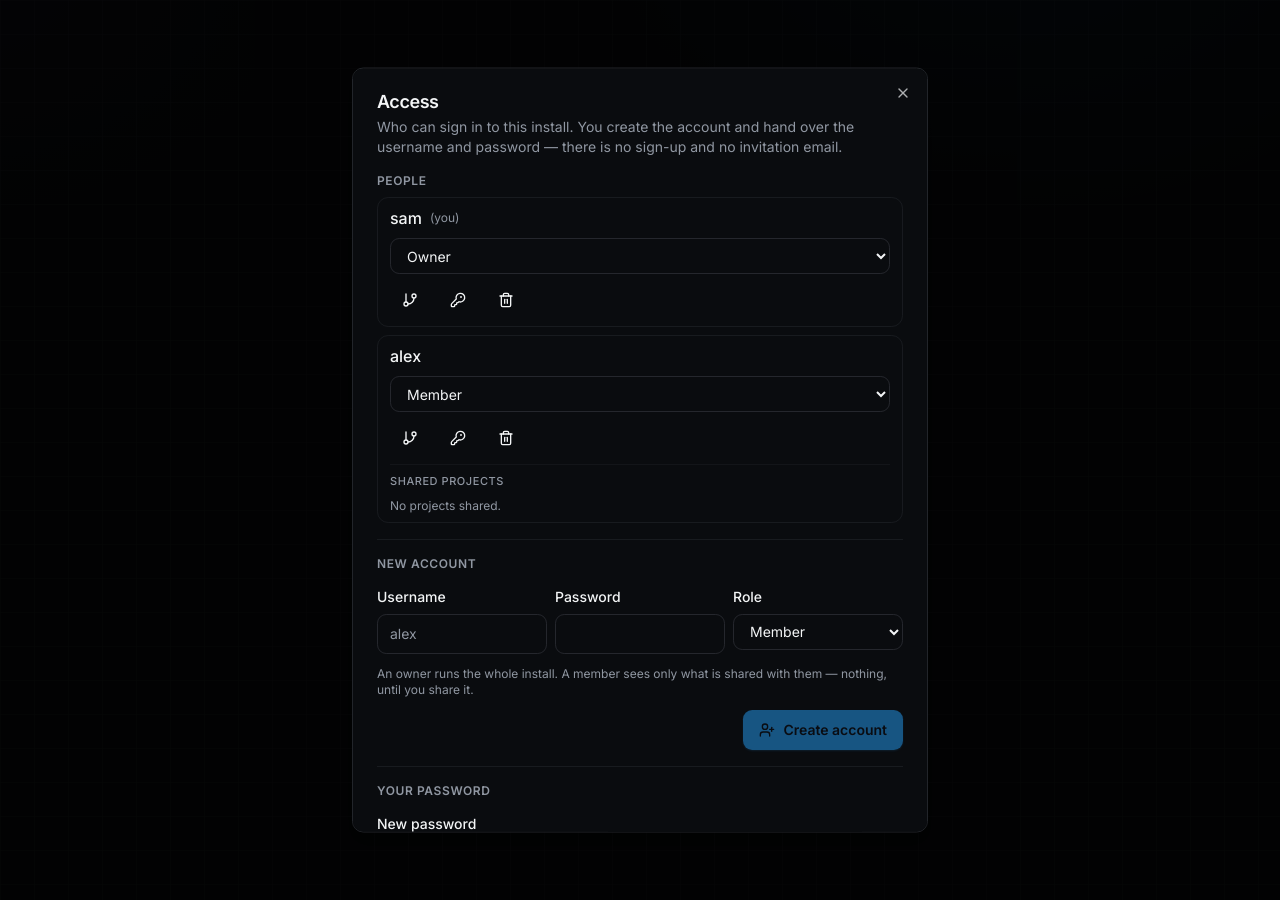
AccessDialog — a identidade no GitHub de uma pessoa › o bloco abre com a conta Claude que a pessoa já tem
Click the button with test id "user-git-open-u2" at (410, 438), box [390,420,430,456]
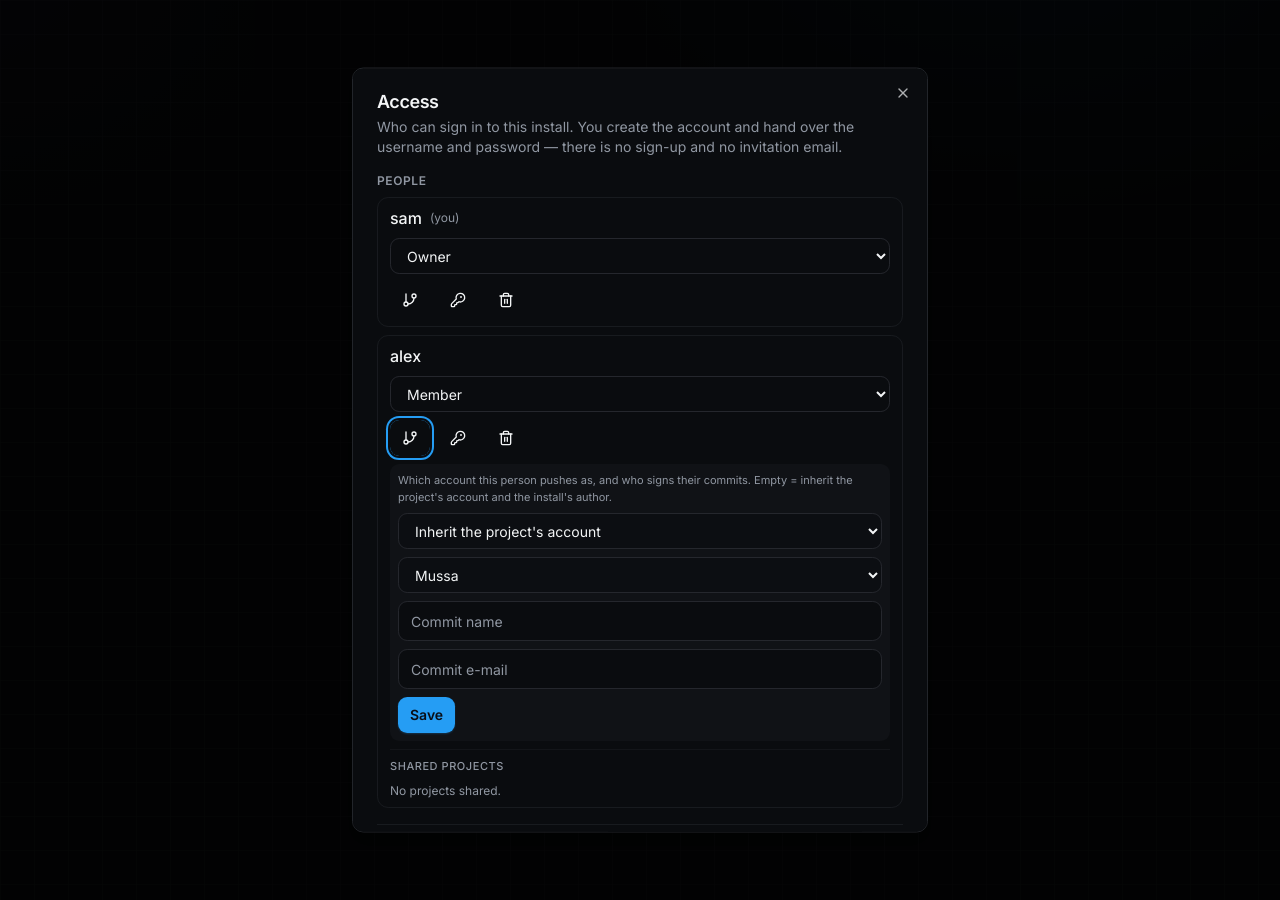
Now the dropdown with test id "user-claude-account-u2" shows "Mussa", box [398,556,882,592]
